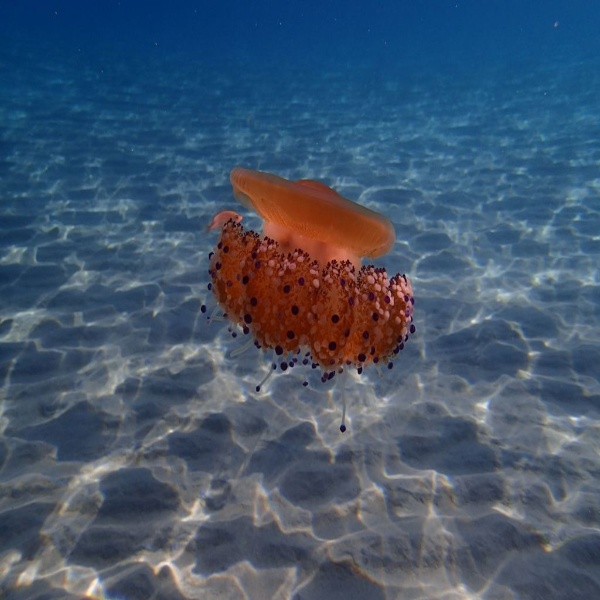Jellyfish: (199, 164, 414, 430)
